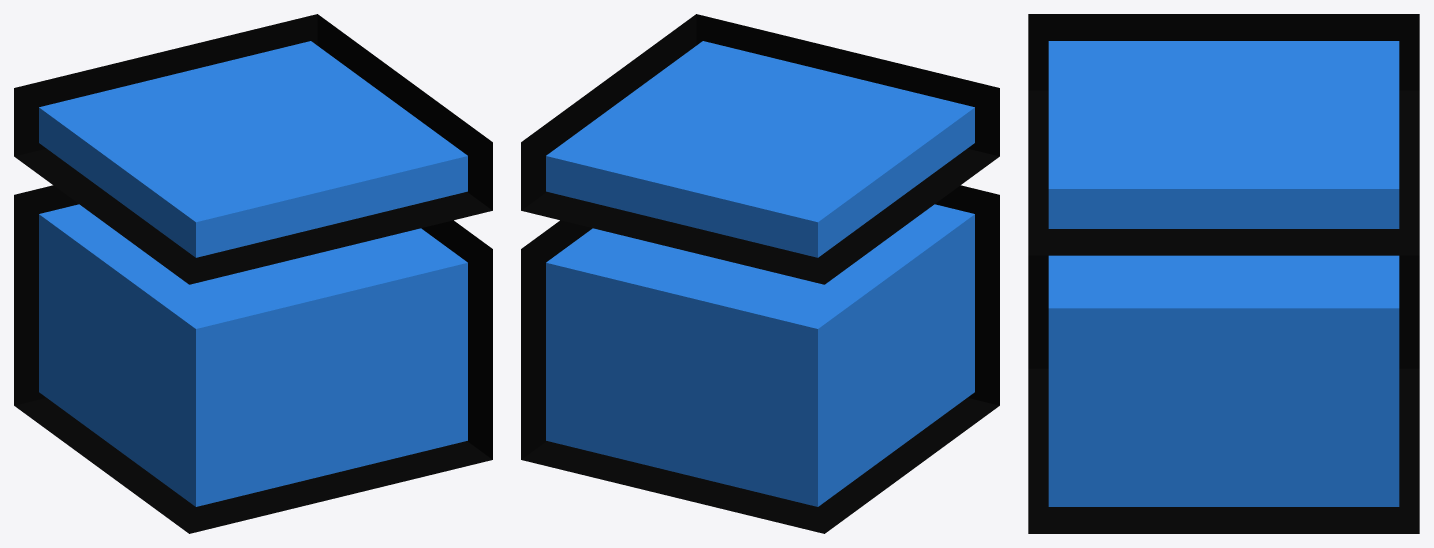
Rendered from cube-bounce.glb.
3 views of the same model, side by side, from view 1: azimuth 30°, elevation 25°; view 2: azimuth 150°, elevation 25°; view 3: azimuth 270°, elevation 25° (orthographic). The views are drawn at different scales.
Visible parts, largest first — view 1: cube-bounce; view 2: cube-bounce; view 3: cube-bounce.
Part boxes in pixels (x1=…): cube-bounce: x1=14, y1=14, x2=492, y2=533; cube-bounce: x1=521, y1=14, x2=999, y2=533; cube-bounce: x1=1028, y1=14, x2=1419, y2=533.
Bounding box in the file's own units: 1.12 × 1.12 × 1.12.
Materials: 2 (1 with a texture image).
